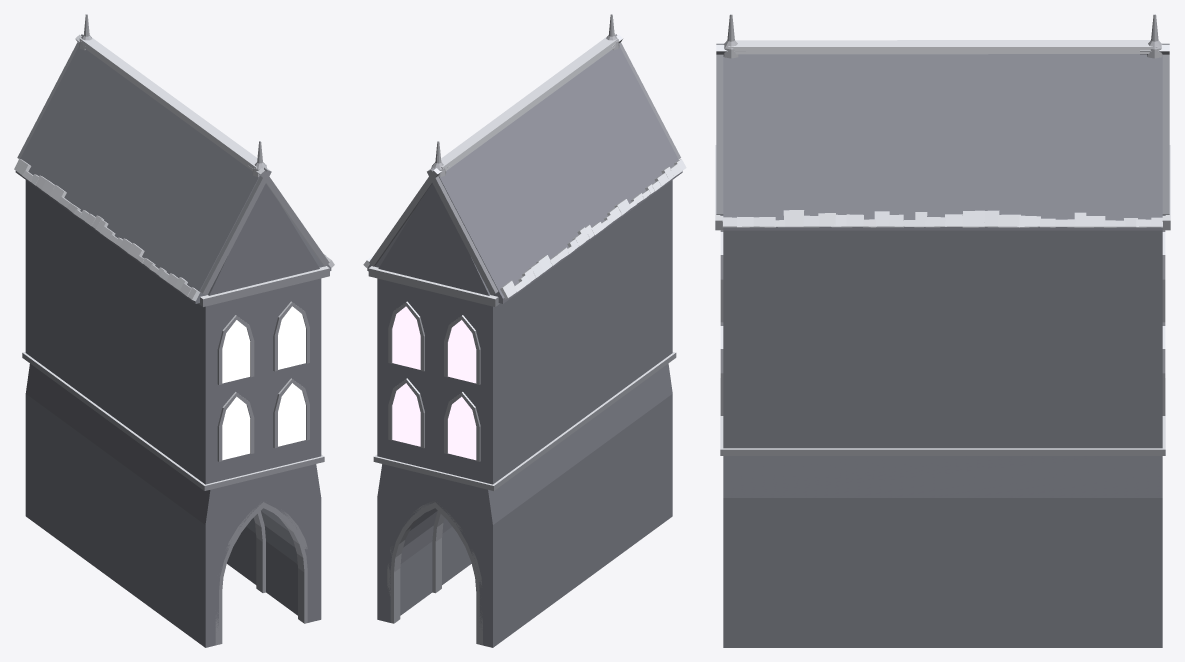
Rendered from AR_Passagem_Coberta.fbx.
3 renders of one model, left to right at view 1: azimuth 30°, elevation 25°; view 2: azimuth 150°, elevation 25°; view 3: azimuth 270°, elevation 25°, orthographic. The views are drawn at different scales.
Visible parts, largest first — view 1: AR_Passagem_Coberta; view 2: AR_Passagem_Coberta; view 3: AR_Passagem_Coberta.
Boxes of the visible parts, left/top/right/bottom form: AR_Passagem_Coberta: left=14, top=14, right=334, bottom=647; AR_Passagem_Coberta: left=363, top=14, right=686, bottom=647; AR_Passagem_Coberta: left=715, top=14, right=1170, bottom=647.
Bounding box in the file's own units: 6.48 × 21.06 × 14.5.
